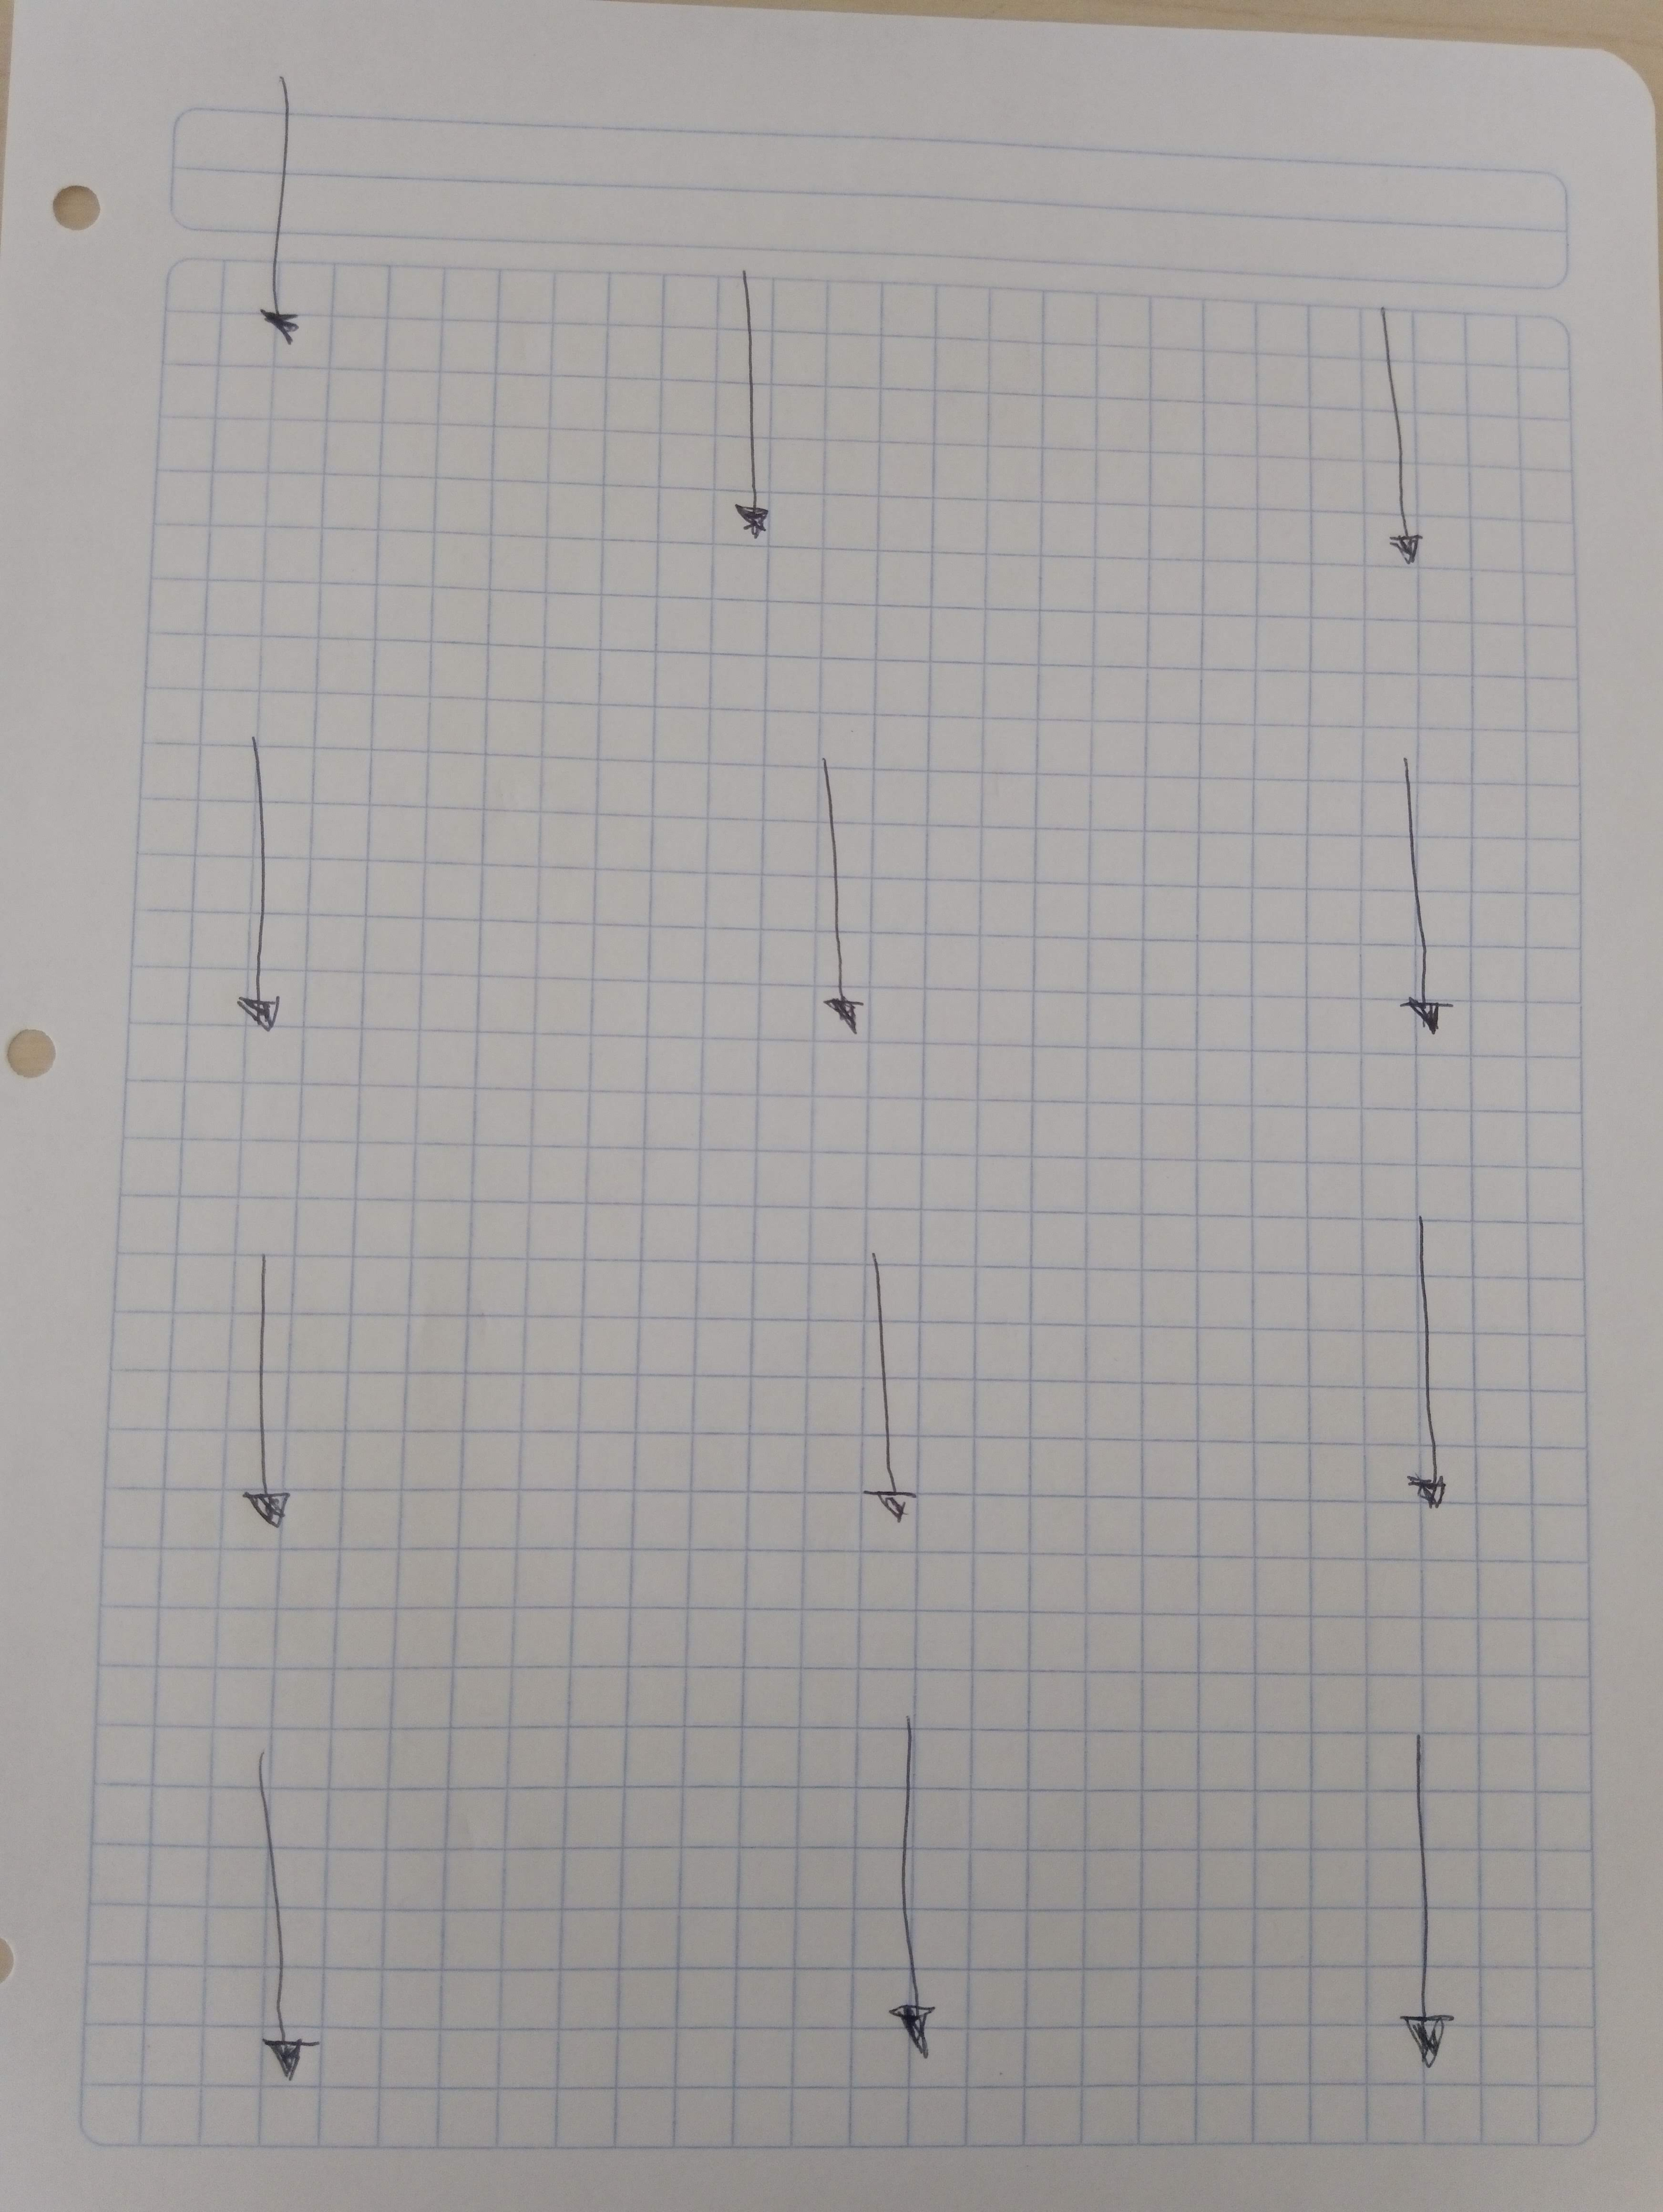arrow_line_down: (213, 1744, 353, 2095), (1361, 1725, 1483, 2081), (859, 1714, 964, 2060), (199, 1238, 313, 1549), (697, 258, 804, 571), (206, 735, 309, 1048), (1364, 1212, 1471, 1501), (837, 1248, 940, 1547), (227, 65, 330, 354), (793, 735, 887, 1044), (1377, 761, 1471, 1061), (1361, 302, 1446, 588)
